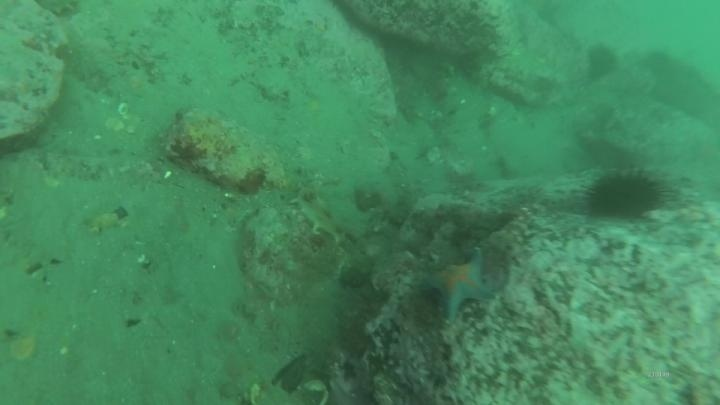echinus: (581, 165, 669, 223), (584, 42, 620, 81)
holothurian: (288, 180, 349, 246)
starfish: (420, 248, 497, 322)
